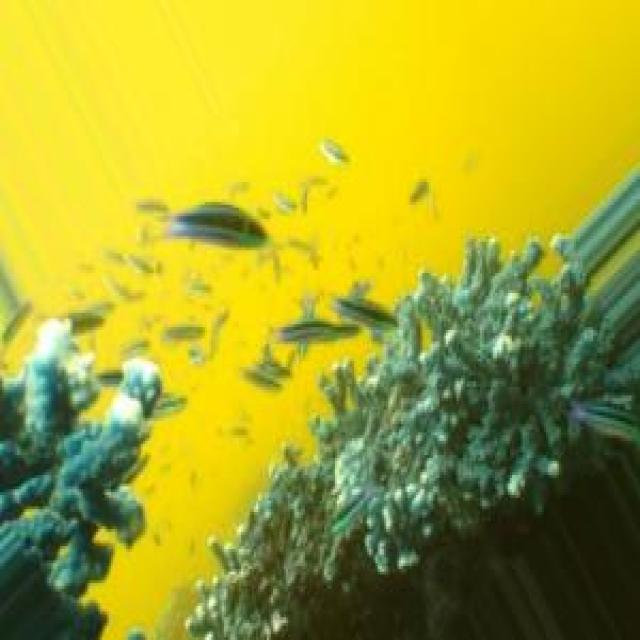Healthy: (192, 241, 581, 639), (19, 321, 162, 638)
